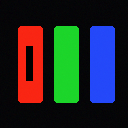4 line_v: (26, 46, 32, 80)
